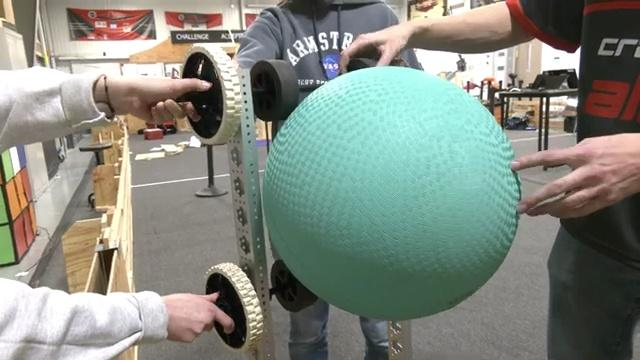ALGAE: (260, 64, 522, 321)
